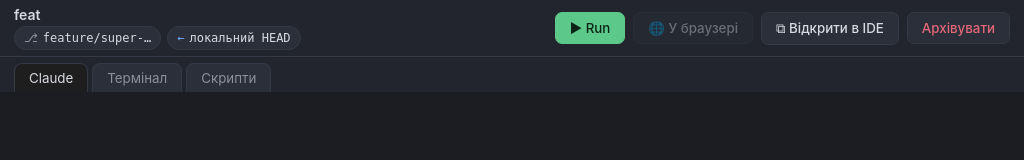
Toolbar › copies the full branch name and flashes a confirmation on click
Click the button "⎇ feature/super-…": (88, 38) x1=14 y1=26 x2=161 y2=50
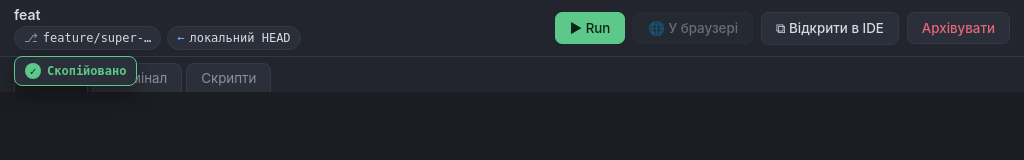
Check: the text "✓ Скопійовано" is shown, box x1=14 y1=56 x2=138 y2=86
